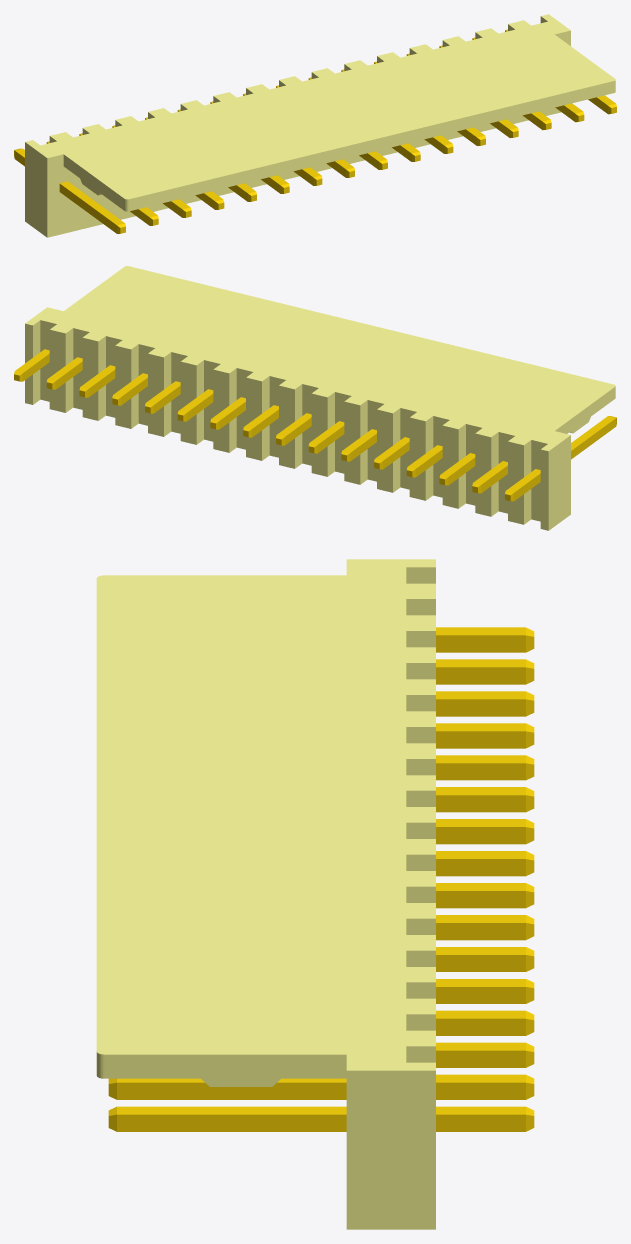
File: DS1070-16 (WF-16 CONNFLY).obj
3 renders of one model, top to bottom at view 1: azimuth 30°, elevation 25°; view 2: azimuth 150°, elevation 25°; view 3: azimuth 270°, elevation 25°, orthographic. The views are drawn at different scales.
Visible parts, largest first — view 1: DS1070-16_(WF-16_CONNFLY); view 2: DS1070-16_(WF-16_CONNFLY); view 3: DS1070-16_(WF-16_CONNFLY).
Part boxes in pixels (x1,y1,x2,y2): DS1070-16_(WF-16_CONNFLY): [14, 14, 616, 237]; DS1070-16_(WF-16_CONNFLY): [14, 266, 616, 530]; DS1070-16_(WF-16_CONNFLY): [96, 559, 534, 1229].
Bounding box in the file's own units: 0.026 × 0.00377 × 0.00939.
